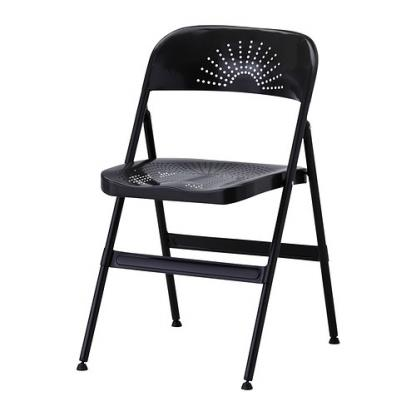Chair: (67, 20, 344, 393)
